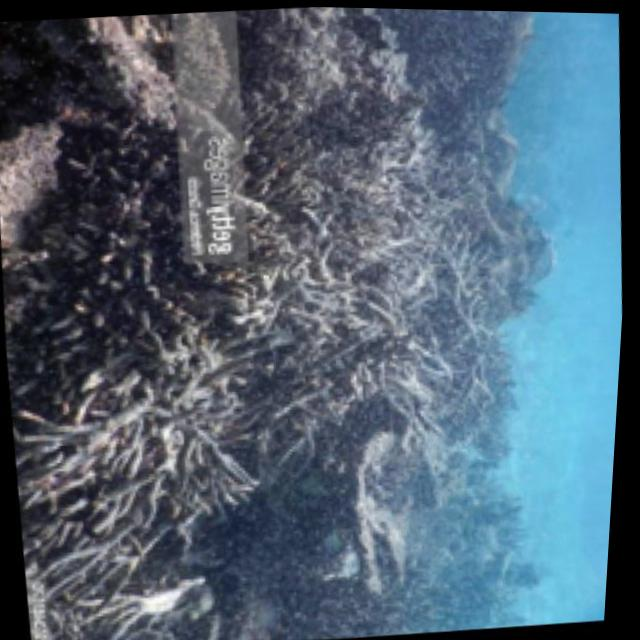Dead Coral: (0, 216, 413, 640), (217, 89, 530, 502)
